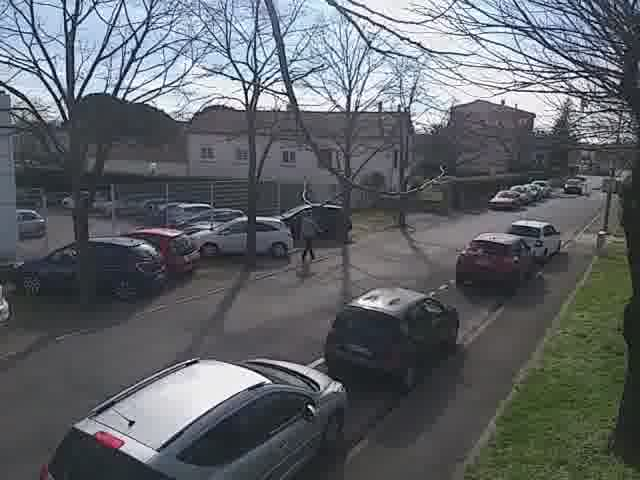persona: (294, 201, 327, 268)
